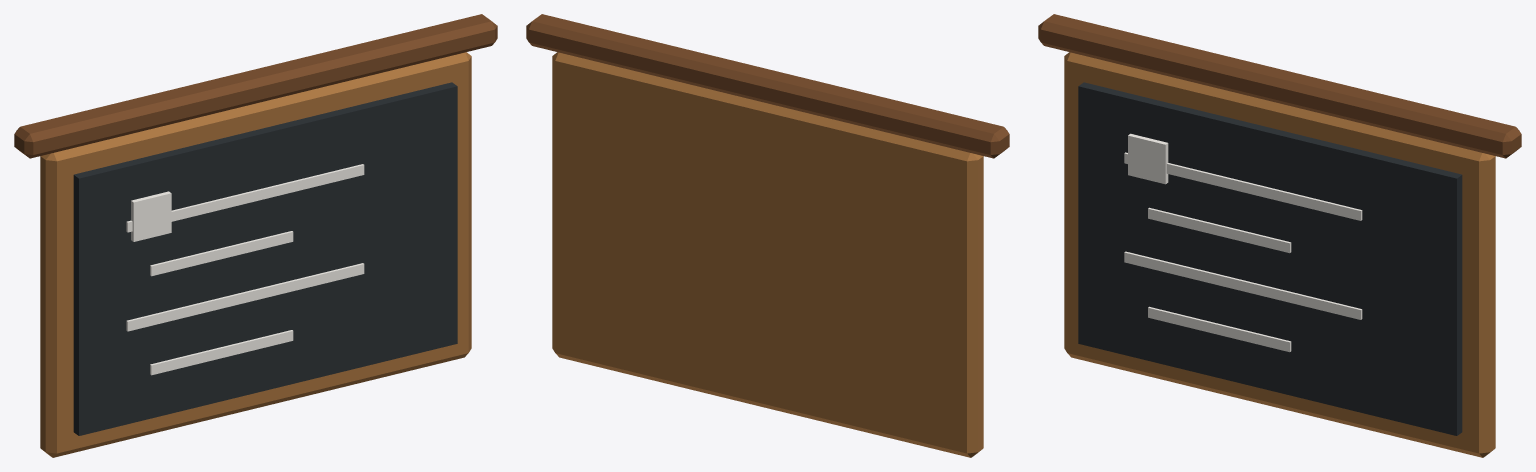
The model's file is menu_board.glb.
3 views of the same model, side by side, from view 1: azimuth 30°, elevation 25°; view 2: azimuth 150°, elevation 25°; view 3: azimuth 330°, elevation 25° (orthographic).
Parts seen in each view (by area): view 1: menu_board; view 2: menu_board; view 3: menu_board.
Boxes of the visible parts, box(x1,y1,x2,y2) form: menu_board: box(14, 14, 497, 457); menu_board: box(526, 14, 1009, 457); menu_board: box(1038, 14, 1521, 457).
Size of the model in its own units: 1 by 0.67 by 0.0845.
